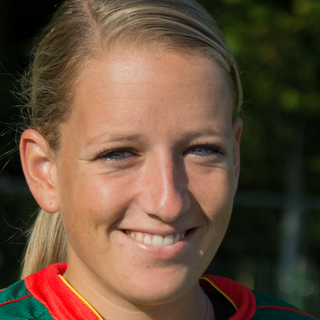eye: (93, 142, 145, 167), (180, 140, 228, 164)
